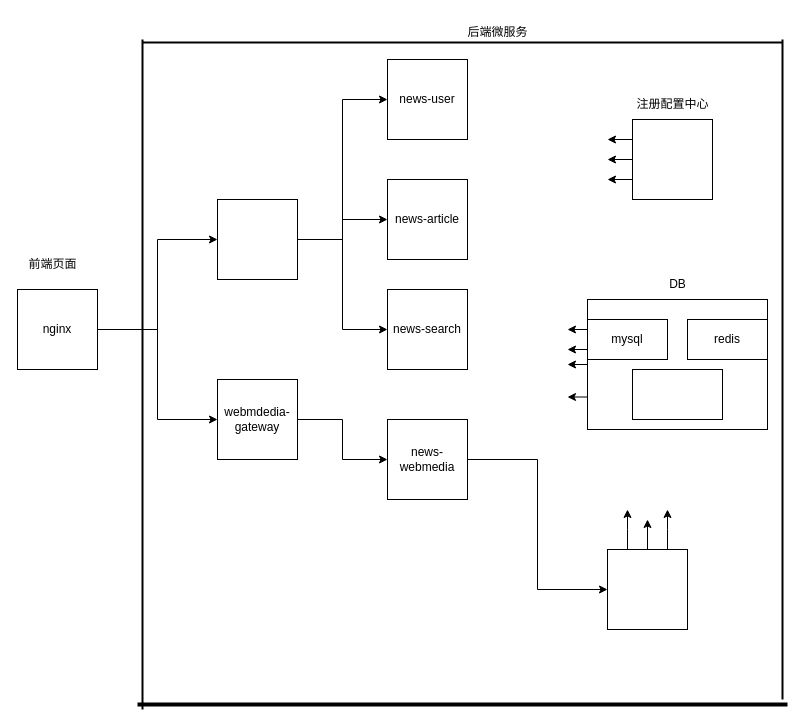
This 807x728 diagram has some shape labels left out. Here are the shapes that lost their labels. From the top down, the centre of each, then its label:
[672,159]: ncaos
[257,239]: app-gateway
[677,394]: mongoDB
[647,589]: news-schedule
